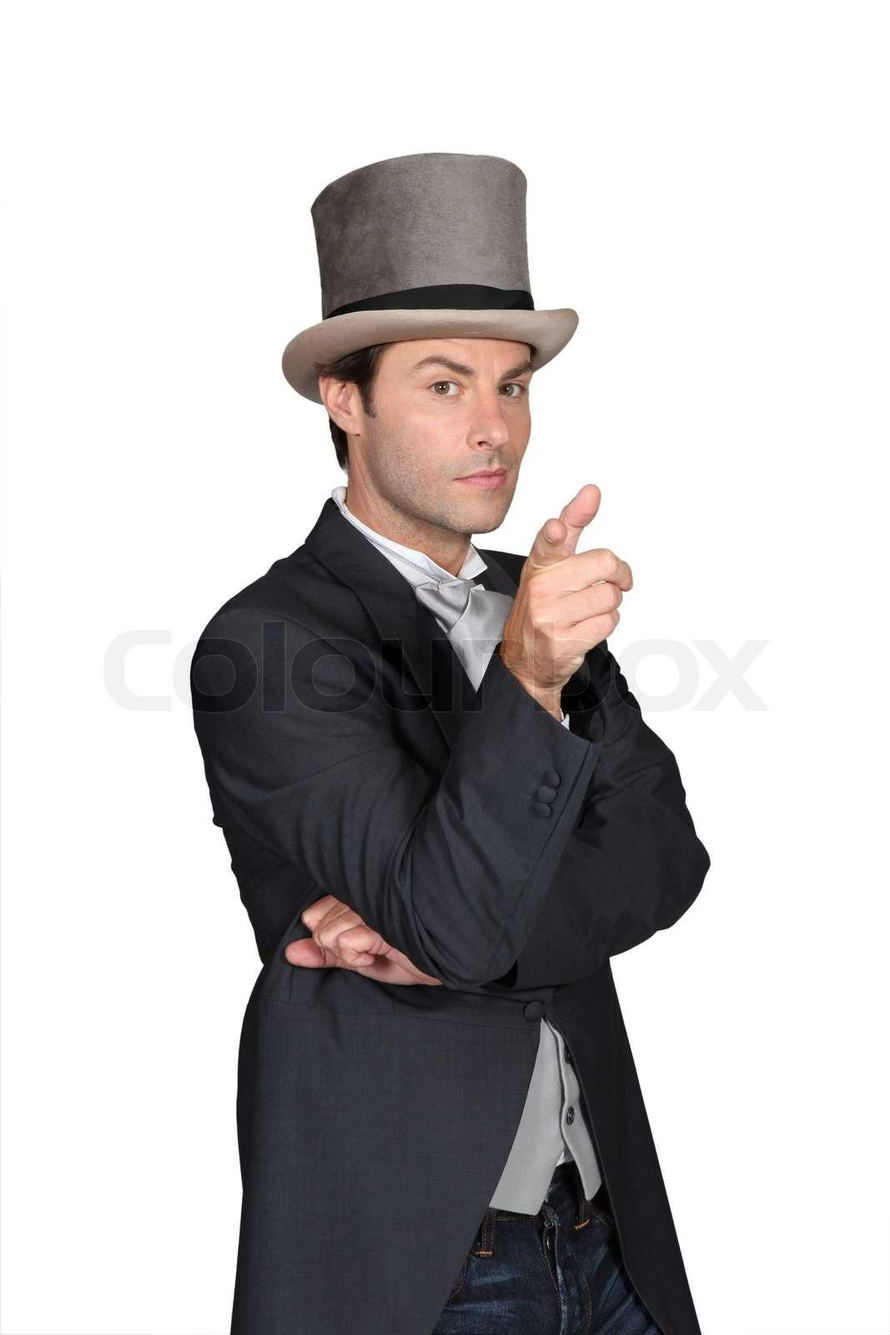cap: (267, 121, 638, 396)
